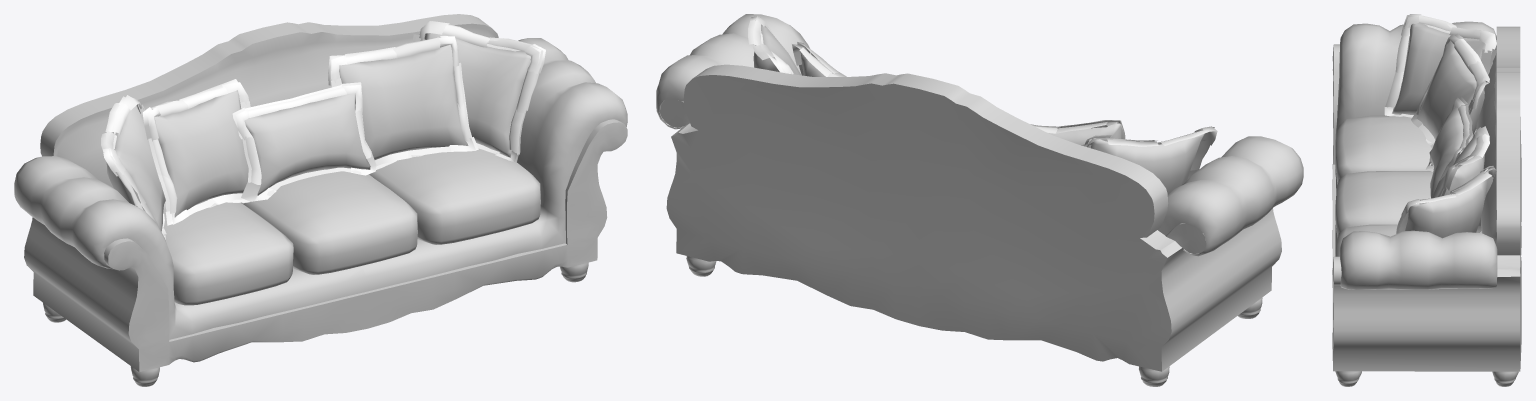
File: sofa_03_1k.glb
3 renders of one model, left to right at view 1: azimuth 30°, elevation 25°; view 2: azimuth 150°, elevation 25°; view 3: azimuth 270°, elevation 25°, orthographic. The views are drawn at different scales.
Parts seen in each view (by area): view 1: sofa_03; view 2: sofa_03; view 3: sofa_03.
Boxes of the visible parts, x1,y1,x2,y2 form: sofa_03: [14, 14, 627, 386]; sofa_03: [656, 14, 1303, 386]; sofa_03: [1332, 14, 1521, 386].
Size of the model in its own units: 2.73 by 1.12 by 0.9251.
Materials: 2 (1 with a texture image).
